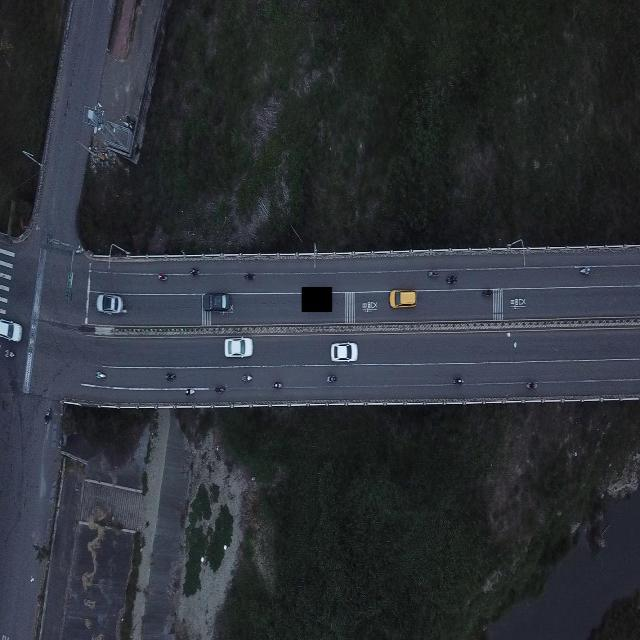bike: (523, 379, 540, 392), (180, 384, 196, 397), (240, 372, 256, 384), (186, 266, 202, 278), (452, 374, 466, 387), (243, 270, 257, 283), (322, 373, 338, 384), (446, 274, 457, 284), (166, 371, 176, 380), (96, 371, 106, 379), (44, 407, 51, 418), (158, 272, 167, 280)
car: (224, 336, 253, 358), (203, 292, 232, 313), (96, 293, 123, 315), (330, 341, 358, 362), (0, 318, 23, 342), (388, 289, 416, 308)
